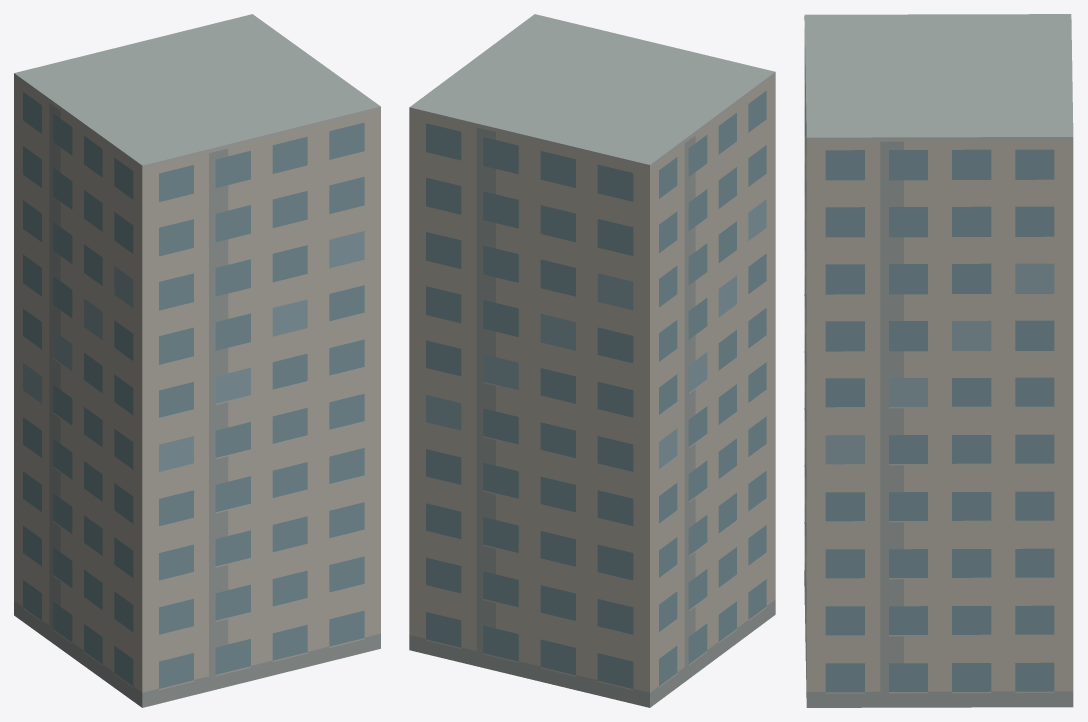
The model's file is residential-cb78a183-32a9-428e-8516-11906146e2c5.glb.
3 renders of one model, left to right at view 1: azimuth 30°, elevation 25°; view 2: azimuth 150°, elevation 25°; view 3: azimuth 270°, elevation 25°, orthographic. The views are drawn at different scales.
Parts seen in each view (by area): view 1: residential-cb78a183-32a9-428e-8516-11906146e2c5.tmp; view 2: residential-cb78a183-32a9-428e-8516-11906146e2c5.tmp; view 3: residential-cb78a183-32a9-428e-8516-11906146e2c5.tmp.
Boxes of the visible parts, bbox=[...] form: residential-cb78a183-32a9-428e-8516-11906146e2c5.tmp: bbox=[14, 14, 380, 707]; residential-cb78a183-32a9-428e-8516-11906146e2c5.tmp: bbox=[409, 14, 775, 707]; residential-cb78a183-32a9-428e-8516-11906146e2c5.tmp: bbox=[804, 14, 1073, 707].
Size of the model in its own units: 14.89 by 32 by 13.68.
